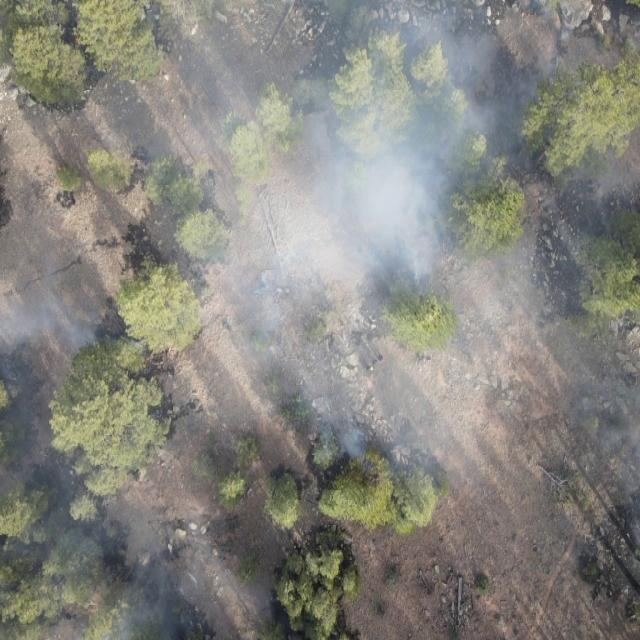fire: (518, 9, 540, 23), (72, 32, 83, 47)
smoke: (129, 2, 558, 364), (540, 157, 640, 528), (35, 485, 198, 640), (279, 358, 444, 482), (0, 265, 103, 367)
